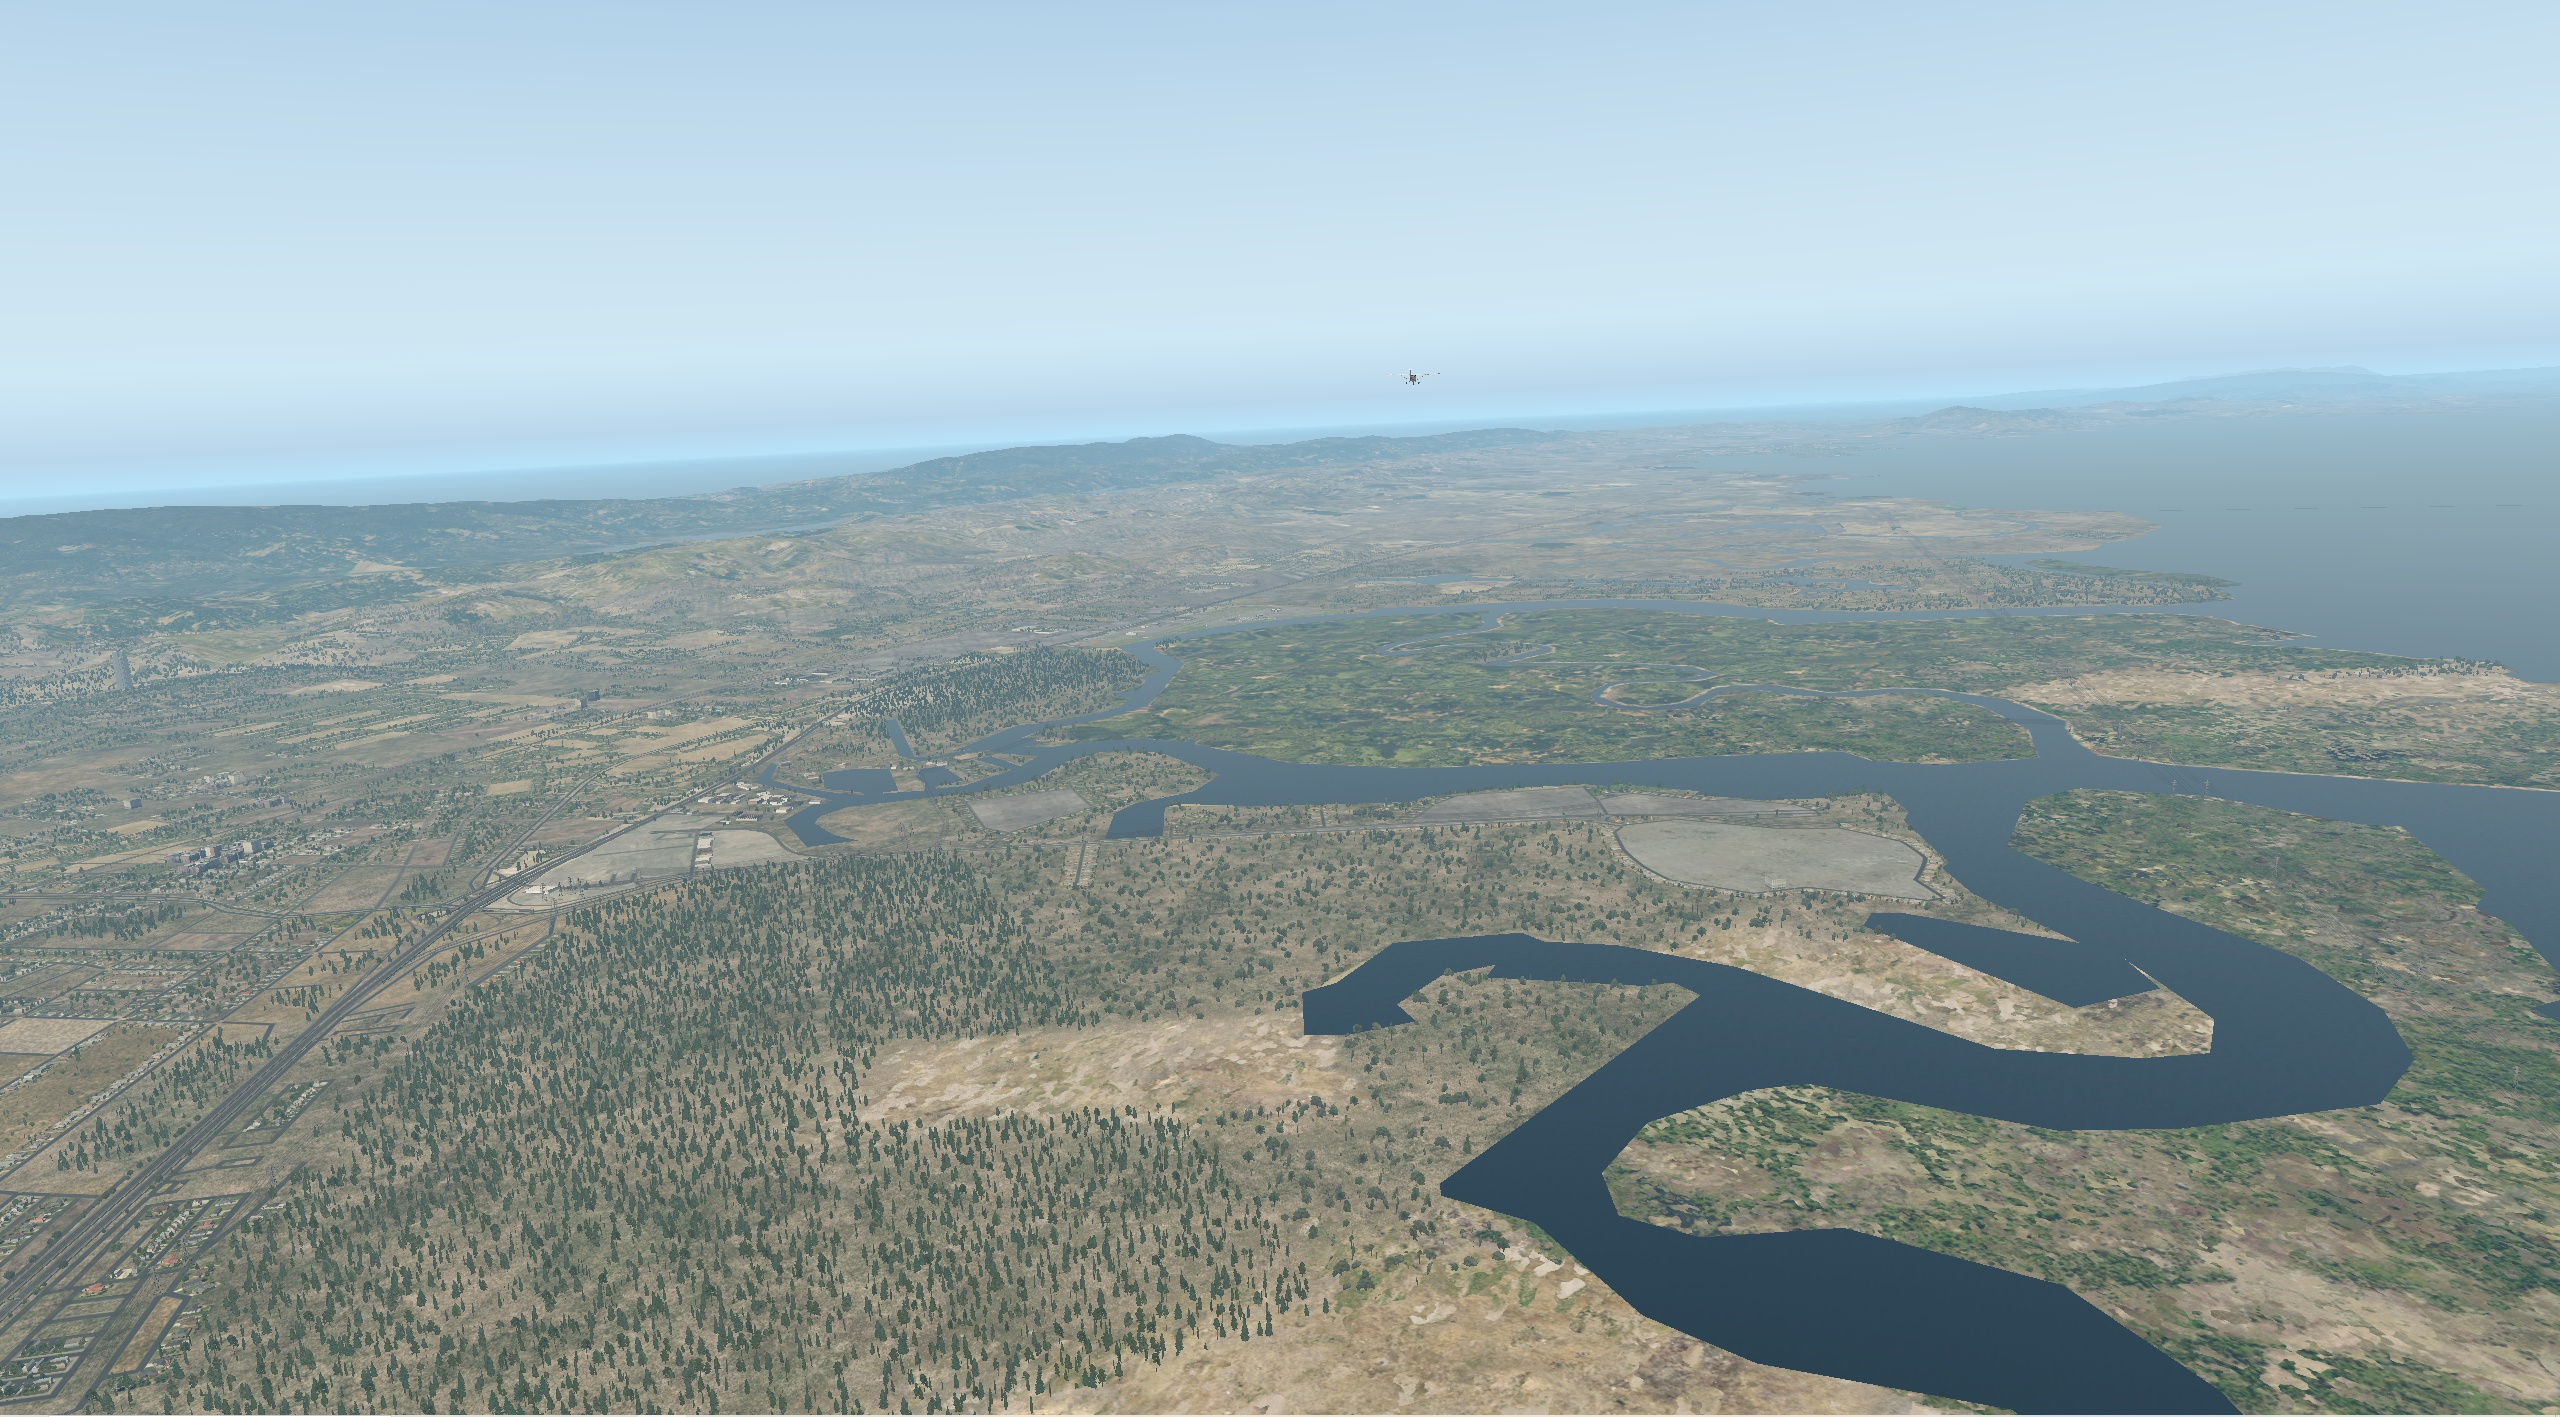aircraft: (1382, 366, 1443, 389)
